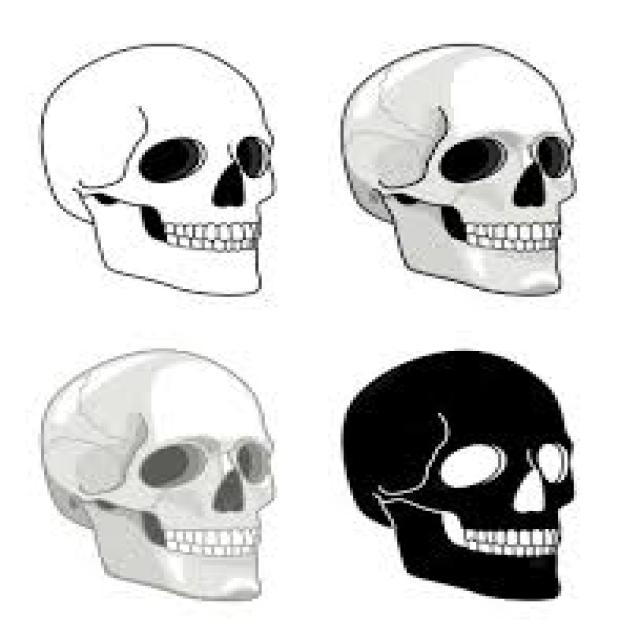skull: (32, 30, 296, 303)
